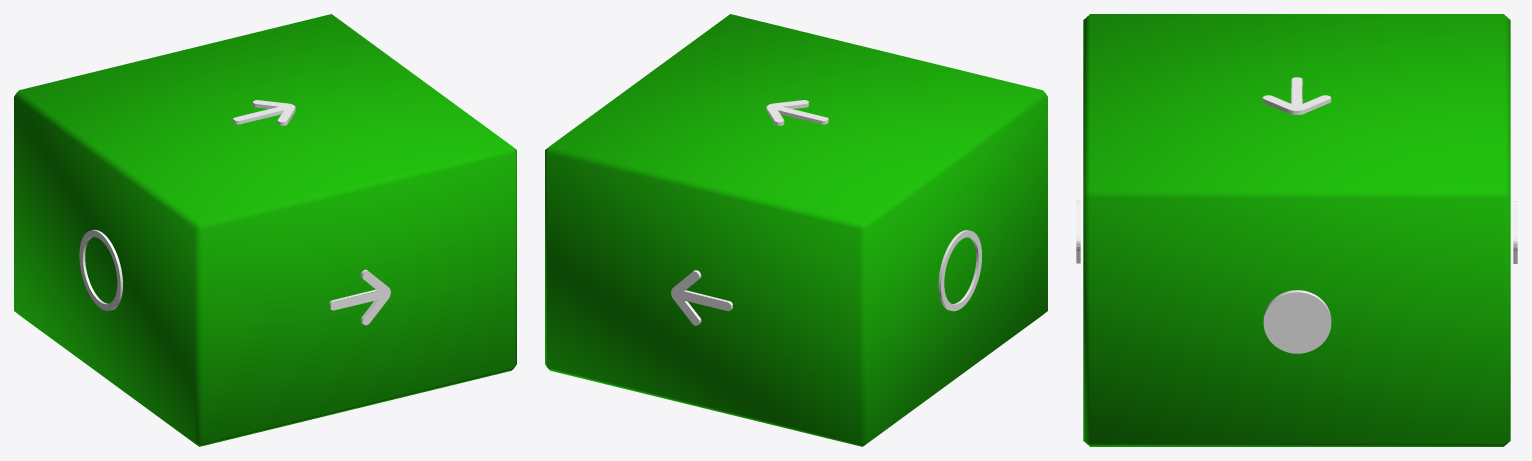
File: BigBoxTapFlowBox_3_2_3_Clean_test.fbx
3 renders of one model, left to right at view 1: azimuth 30°, elevation 25°; view 2: azimuth 150°, elevation 25°; view 3: azimuth 270°, elevation 25°, orthographic. The views are drawn at different scales.
Visible parts, largest first — view 1: BigBoxTapFlowBox_3_2_3_Clean_test; view 2: BigBoxTapFlowBox_3_2_3_Clean_test; view 3: BigBoxTapFlowBox_3_2_3_Clean_test.
Part boxes in pixels (x1,y1,x2,y2): BigBoxTapFlowBox_3_2_3_Clean_test: [14, 14, 516, 446]; BigBoxTapFlowBox_3_2_3_Clean_test: [545, 14, 1047, 446]; BigBoxTapFlowBox_3_2_3_Clean_test: [1076, 14, 1517, 446].
Bounding box in the file's own units: 3.22 × 2.2 × 3.25.
Materials: 1 (1 with a texture image).
